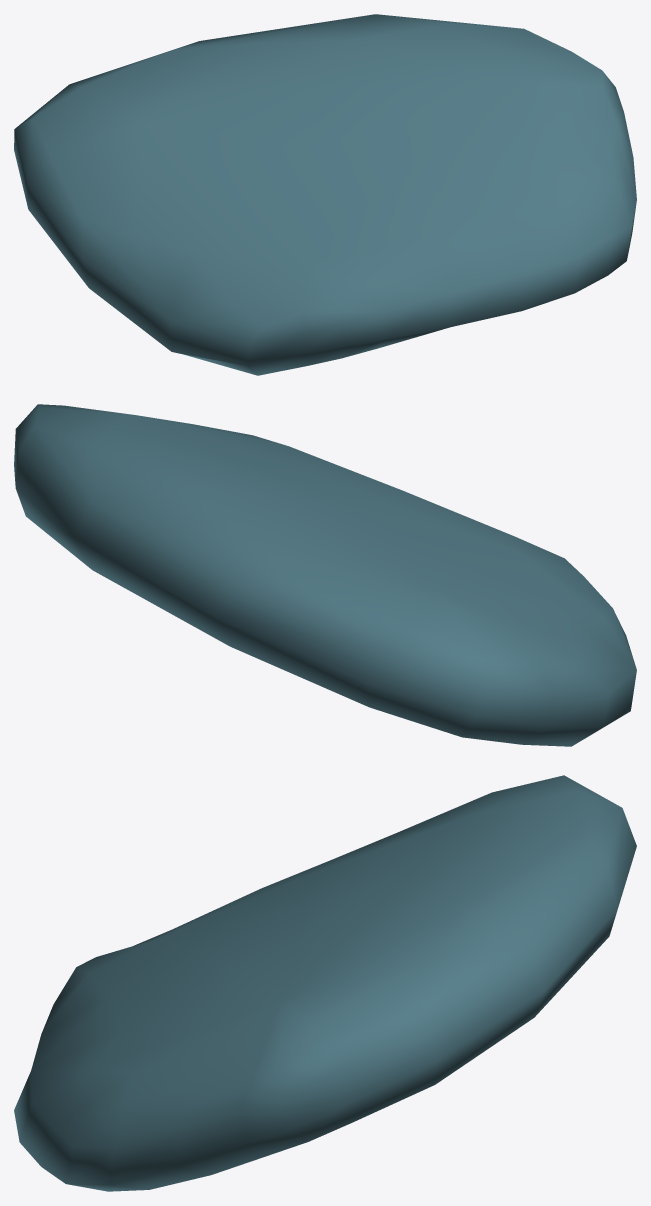
File: Extensor_digitorum_longus_&_brevis_on_2d_distal_phalanx.r_Gener.glb
The picture shows the model from 3 angles, top to bottom: view 1: azimuth 30°, elevation 25°; view 2: azimuth 150°, elevation 25°; view 3: azimuth 270°, elevation 25°; orthographic projection. The views are drawn at different scales.
Parts seen in each view (by area): view 1: Extensor_digitorum_longus_&_brevis_on_2d_distal_phalanx.r_Ge; view 2: Extensor_digitorum_longus_&_brevis_on_2d_distal_phalanx.r_Ge; view 3: Extensor_digitorum_longus_&_brevis_on_2d_distal_phalanx.r_Ge.
Boxes of the visible parts, x1,y1,x2,y2 form: Extensor_digitorum_longus_&_brevis_on_2d_distal_phalanx.r_Ge: (14, 14, 636, 375); Extensor_digitorum_longus_&_brevis_on_2d_distal_phalanx.r_Ge: (14, 404, 636, 746); Extensor_digitorum_longus_&_brevis_on_2d_distal_phalanx.r_Ge: (14, 775, 636, 1191).
Bounding box in the file's own units: 0.00353 × 0.00135 × 0.00281.
